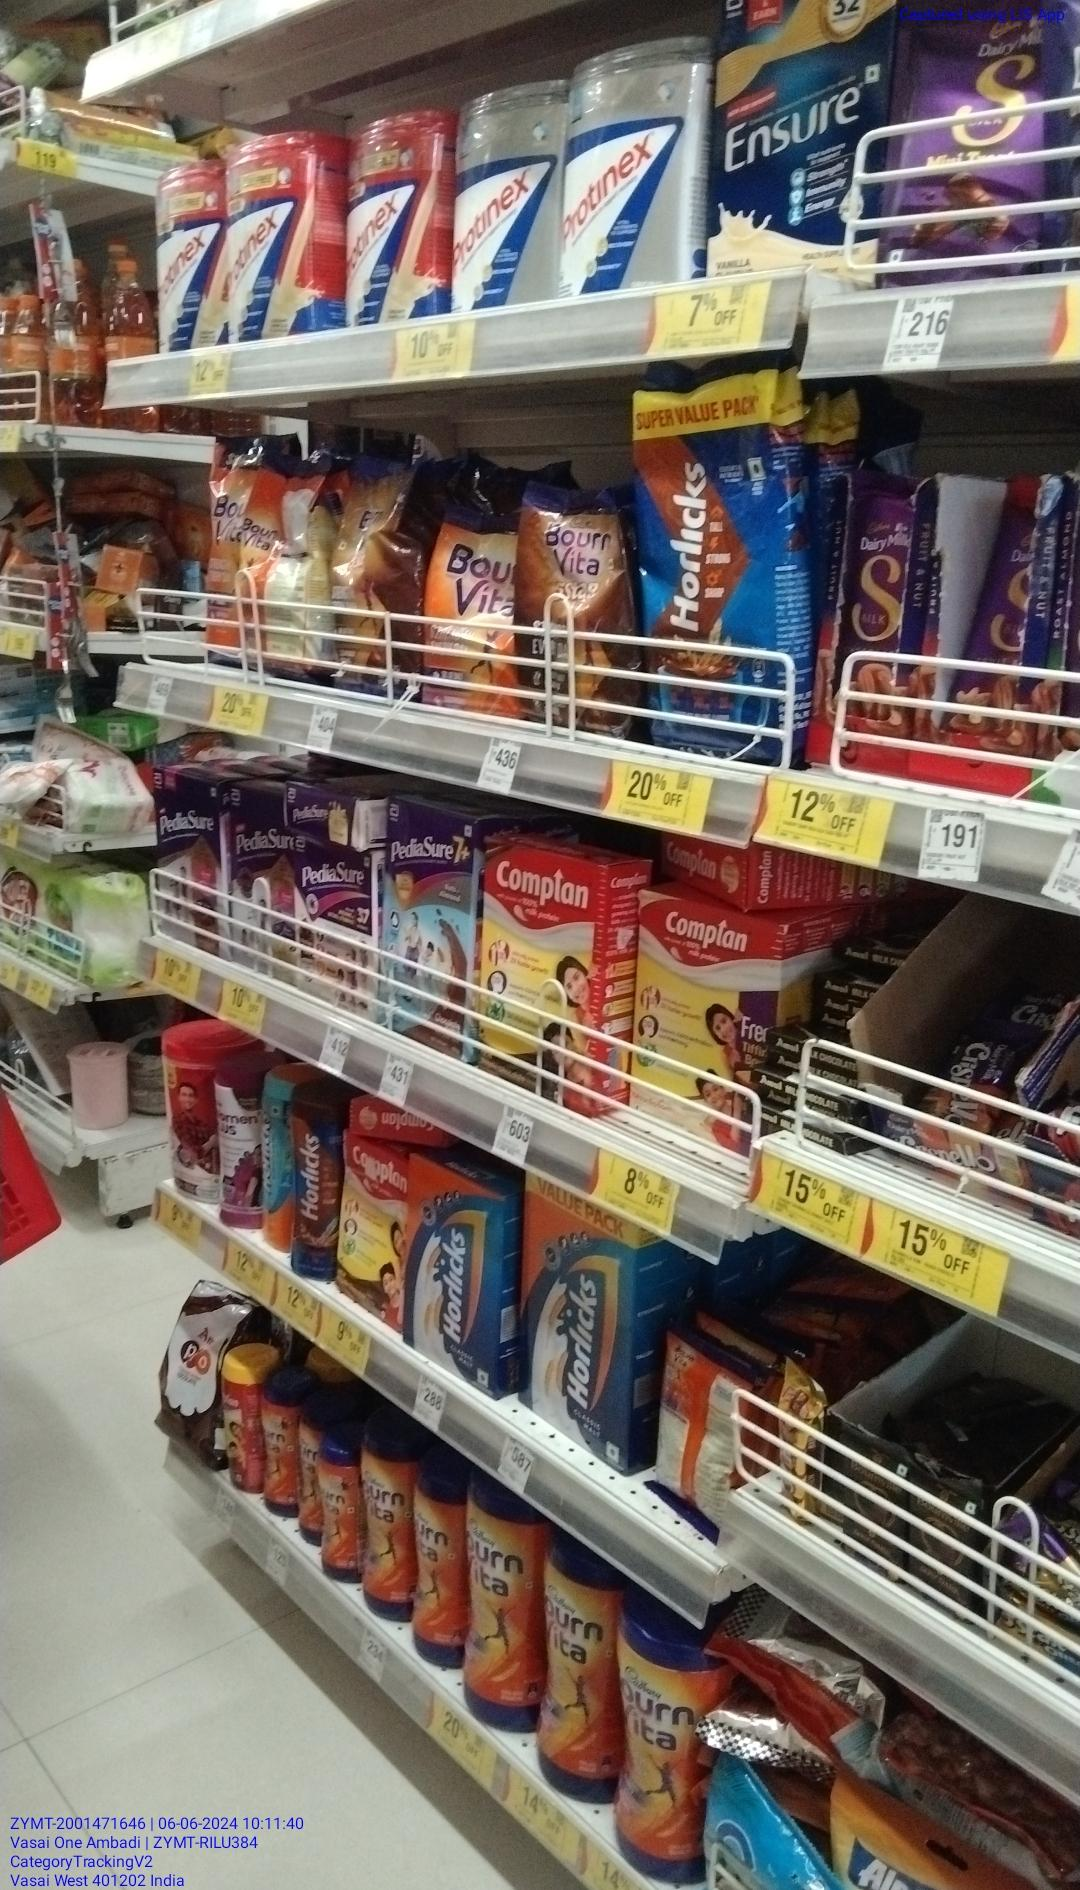BOURN_VITA_1_KG_JAR: (615, 1616, 704, 1882), (537, 1537, 607, 1800), (466, 1485, 530, 1734), (410, 1468, 462, 1669), (363, 1424, 406, 1624)
BOURN_VITA_500_G_JAR: (317, 1440, 358, 1580)
BOURN_VITA_500_G_POUCH: (426, 504, 505, 711)
BOURN_VITA_FIVE_STAR_MAGIC_500_G_POUCH: (518, 492, 633, 737)
COMPLAN_KESAR_BADAM_200_GMS_PACK: (631, 896, 767, 1120)
HORLICK_CHOCOLATE_750_G_POUCH: (641, 376, 802, 761)
PROTINEX_ORIGINAL_400_G_JAR: (565, 45, 692, 282), (450, 84, 548, 299)
PROTINEX_VANILLA_400_G_JAR: (340, 113, 444, 306), (223, 140, 321, 330), (152, 170, 218, 347)
